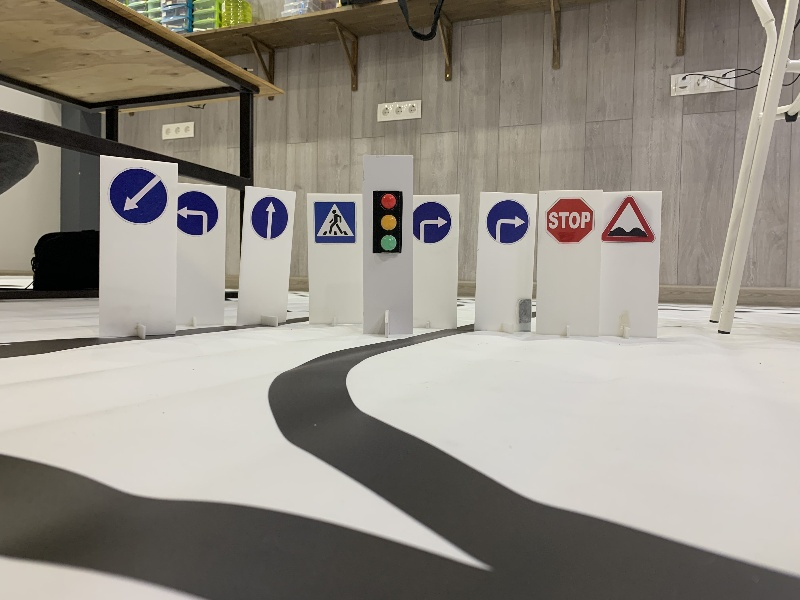Left: (172, 188, 220, 236)
Nerov: (603, 196, 654, 245)
Right: (485, 198, 529, 246), (409, 200, 450, 241)
Stop: (545, 195, 597, 245)
forw: (249, 194, 288, 240)
pesh: (310, 200, 357, 242)
prep: (107, 169, 168, 225)
